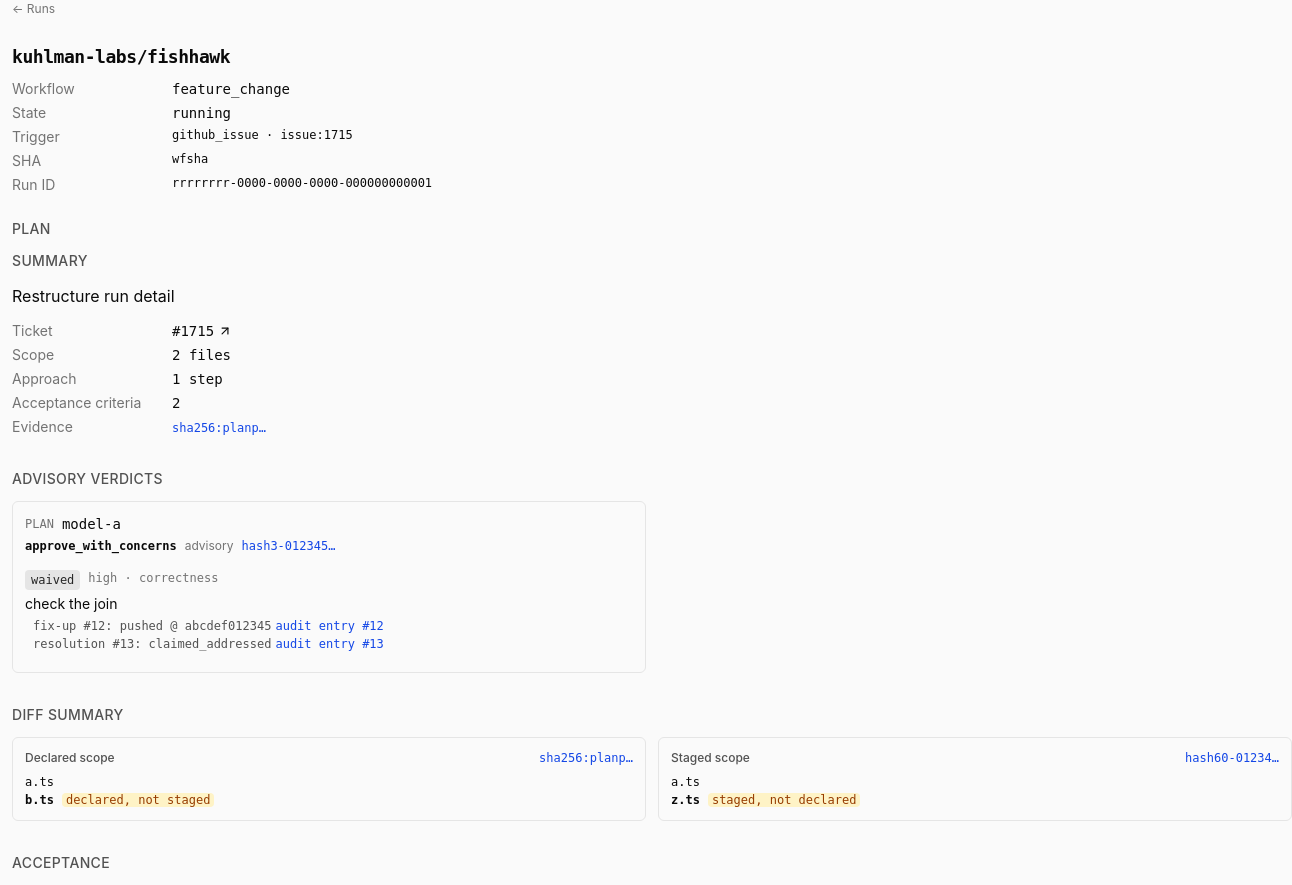
Test: <RunDetail> evidence narrative › following a concern fix-up history link resolves THAT entry, not the review that raised it
Click the link with test id "evidence-link" showing "audit entry #12".
click(330, 626)  # box [275,618,384,634]
(page scrolled)
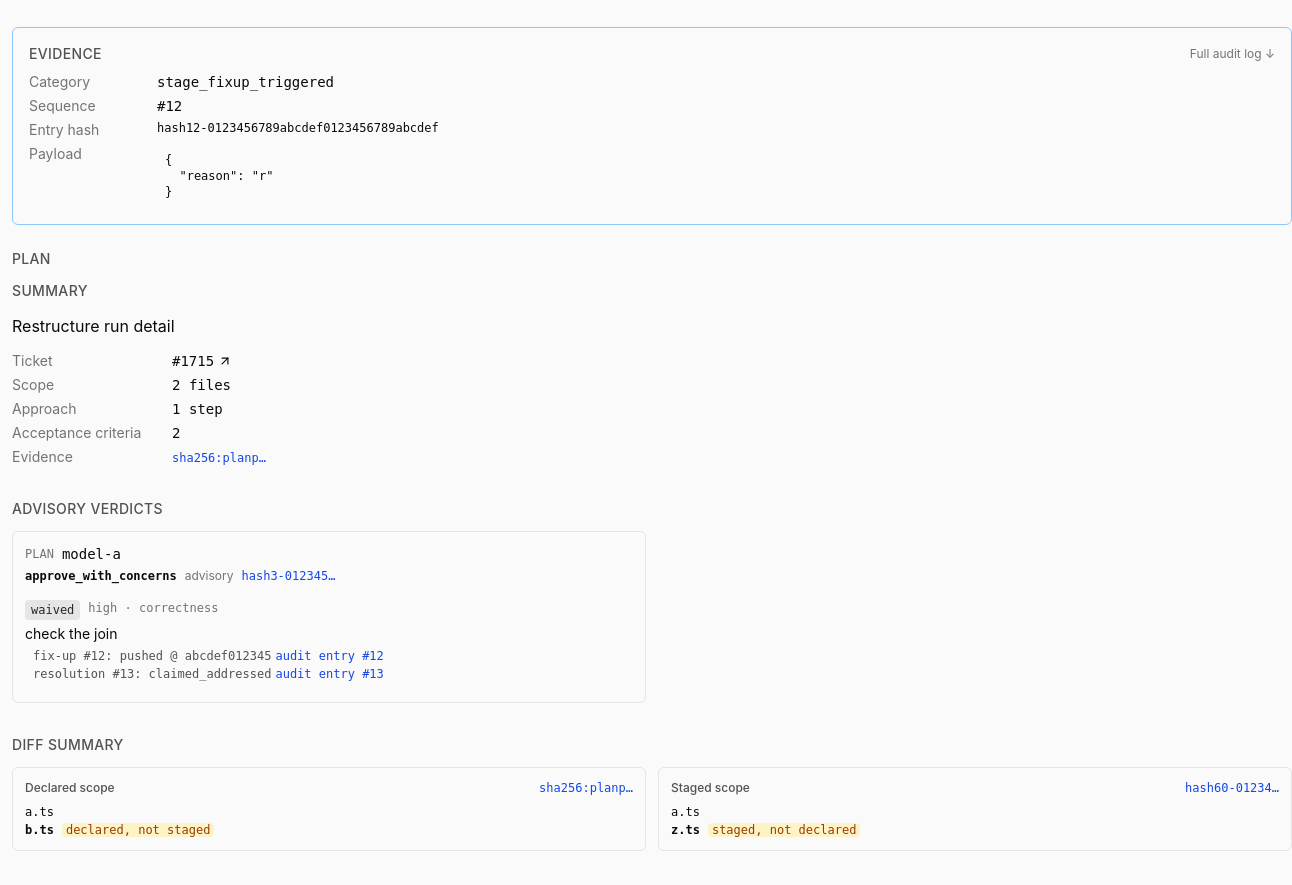
Expected: the text with test id "evidence-entry-hash" reads "hash12-0123456789abcdef0123456789abcdef", [157,121,439,135]
Expected: the text "stage_fixup_triggered" is shown, [157,74,334,90]
Click the link with test id "evidence-link" showing "audit entry #13".
click(330, 674)  # box [275,666,384,682]
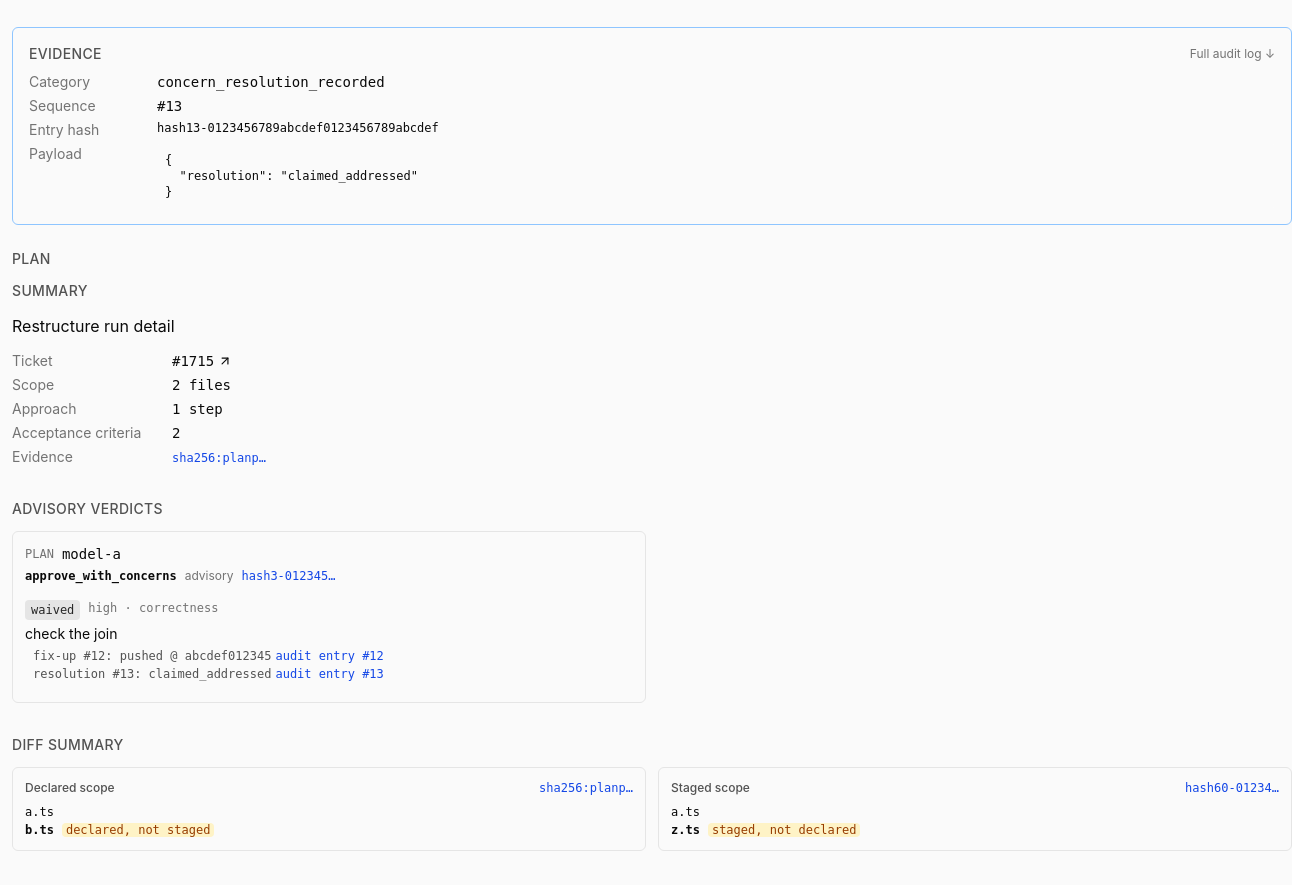
Expected: the text with test id "evidence-entry-hash" reads "hash13-0123456789abcdef0123456789abcdef", [157,121,439,135]
Expected: the text "concern_resolution_recorded" is shown, [157,74,385,90]
